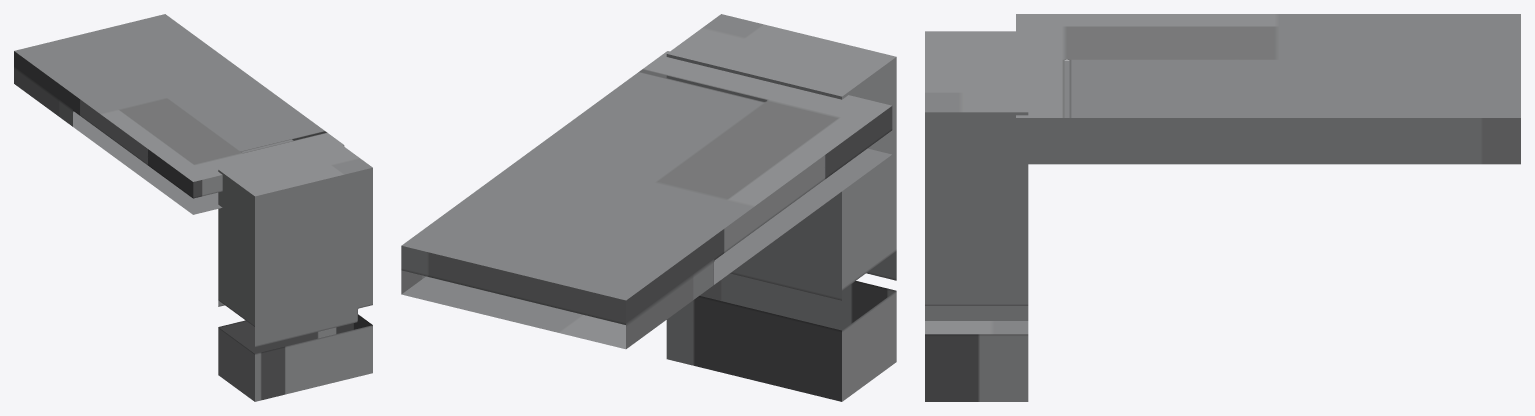
3 views of the same model, side by side, from view 1: azimuth 30°, elevation 25°; view 2: azimuth 150°, elevation 25°; view 3: azimuth 270°, elevation 25° (orthographic). The views are drawn at different scales.
Size of the model in its own units: 0.78 by 1.01 by 1.89.
